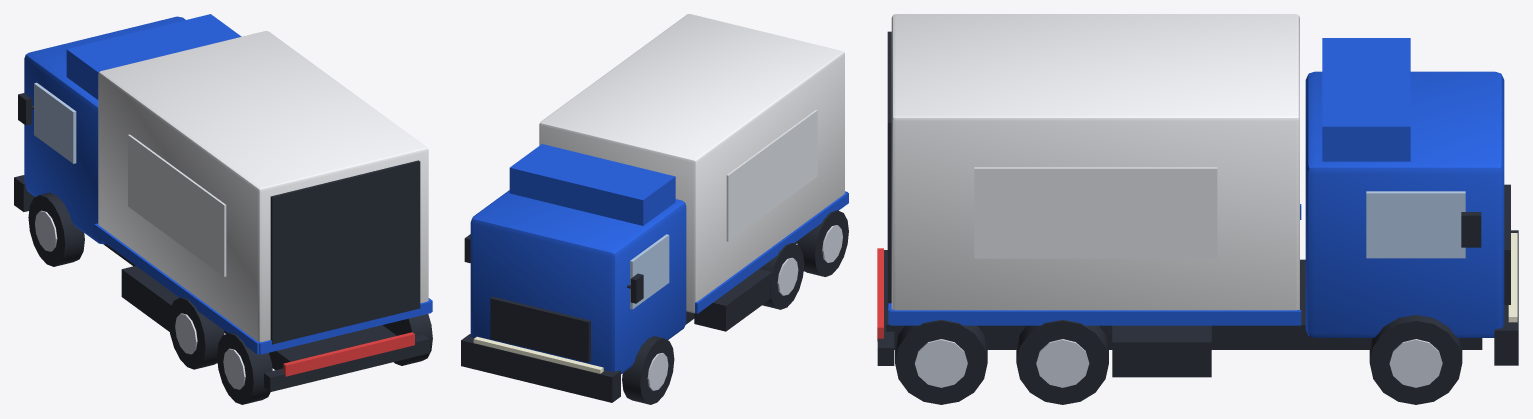
Rendered from truck_box.glb.
3 renders of one model, left to right at view 1: azimuth 30°, elevation 25°; view 2: azimuth 150°, elevation 25°; view 3: azimuth 270°, elevation 25°, orthographic. The views are drawn at different scales.
Visible parts, largest first — view 1: Truck_CargoBox, Truck_RearDoorFrame, Truck_Cab, Truck_LogoPanel_L, Truck_AeroCap, Wheel_FL, Truck_SideWindow_L, Truck_RearBumper, Truck_BottomStripe_L, Wheel_RL, Wheel_ML, Truck_FuelTank_L (+9 smaller); view 2: Truck_CargoBox, Truck_Cab, Truck_AeroCap, Truck_LogoPanel_L, Truck_FrontBumper, Truck_Grille, Truck_FuelTank_L, Wheel_FL, Truck_BottomStripe_L, Wheel_RL, Truck_SideWindow_L, Wheel_ML (+5 smaller); view 3: Truck_CargoBox, Truck_Cab, Truck_LogoPanel_R, Truck_AeroCap, Truck_SideWindow_R, Truck_BottomStripe_R, Truck_BatteryBox_R, Truck_Chassis, Wheel_FR, Wheel_MR, Wheel_RR, Rim_FR (+9 smaller).
Boxes of the visible parts, bbox=[...] form: Truck_CargoBox: bbox=[98, 31, 428, 341]; Truck_RearDoorFrame: bbox=[270, 160, 420, 344]; Truck_Cab: bbox=[24, 16, 185, 244]; Truck_LogoPanel_L: bbox=[128, 134, 226, 276]; Truck_AeroCap: bbox=[66, 14, 241, 99]; Wheel_FL: bbox=[28, 192, 84, 266]; Truck_SideWindow_L: bbox=[34, 82, 76, 163]; Truck_RearBumper: bbox=[264, 334, 429, 391]; Truck_BottomStripe_L: bbox=[94, 223, 259, 354]; Wheel_RL: bbox=[217, 332, 272, 404]; Wheel_ML: bbox=[168, 297, 224, 369]; Truck_FuelTank_L: bbox=[121, 266, 179, 331]; Truck_CargoBox: bbox=[539, 14, 844, 313]; Truck_Cab: bbox=[470, 190, 686, 374]; Truck_AeroCap: bbox=[509, 144, 675, 225]; Truck_LogoPanel_L: bbox=[726, 110, 817, 241]; Truck_FrontBumper: bbox=[461, 334, 620, 402]; Truck_Grille: bbox=[490, 296, 590, 362]; Truck_FuelTank_L: bbox=[694, 269, 772, 331]; Wheel_FL: bbox=[622, 336, 674, 404]; Truck_BottomStripe_L: bbox=[695, 192, 848, 313]; Wheel_RL: bbox=[797, 210, 848, 276]; Truck_SideWindow_L: bbox=[630, 234, 669, 309]; Wheel_ML: bbox=[759, 243, 804, 309]; Truck_CargoBox: bbox=[891, 14, 1299, 310]; Truck_Cab: bbox=[1305, 71, 1504, 337]; Truck_LogoPanel_R: bbox=[974, 167, 1217, 258]; Truck_AeroCap: bbox=[1322, 38, 1410, 161]; Truck_SideWindow_R: bbox=[1366, 191, 1465, 258]; Truck_BottomStripe_R: bbox=[890, 310, 1301, 325]; Truck_BatteryBox_R: bbox=[1112, 325, 1211, 377]; Truck_Chassis: bbox=[886, 259, 1482, 349]; Wheel_FR: bbox=[1369, 315, 1462, 404]; Wheel_MR: bbox=[1016, 319, 1108, 404]; Wheel_RR: bbox=[895, 319, 987, 404]; Rim_FR: bbox=[1389, 339, 1442, 387].
Size of the model in its own units: 2.44 by 2.85 by 5.81.
